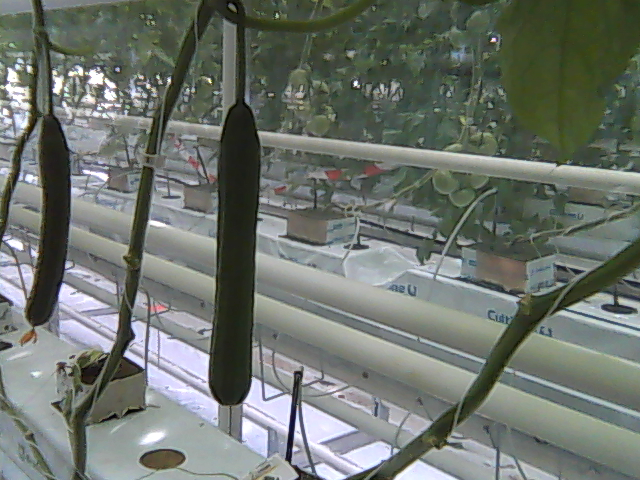concombre: (205, 88, 266, 411), (15, 110, 77, 347)
